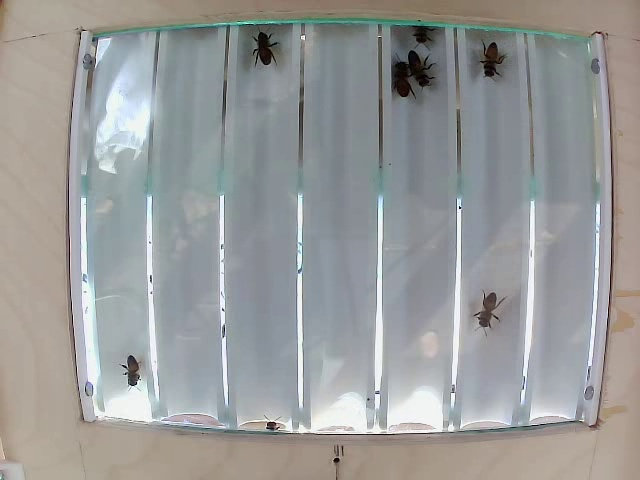bee: (475, 35, 501, 91), (252, 26, 279, 74), (408, 45, 433, 90), (478, 288, 503, 332), (411, 12, 440, 47), (116, 354, 144, 386), (394, 55, 413, 99)
